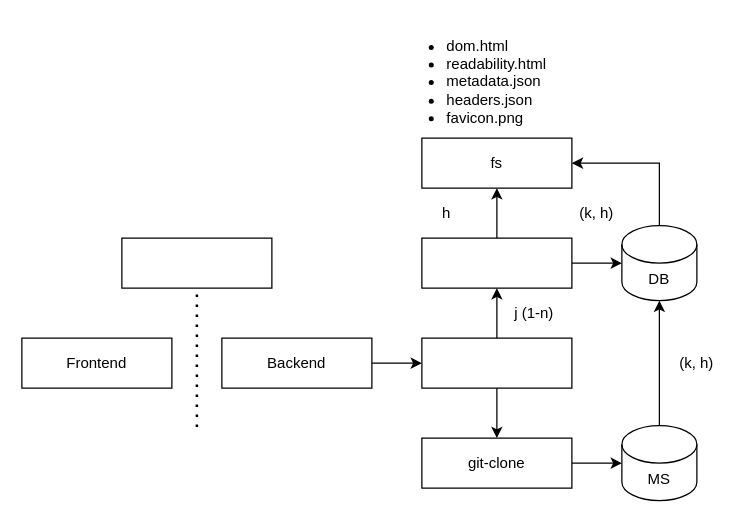
Image size: 744x523. Some labels were removed from this diagram. Each missing label, with the box of its shape:
API: (121, 237, 272, 288)
dump-dom: (421, 237, 572, 288)
Queue: (421, 337, 572, 388)
